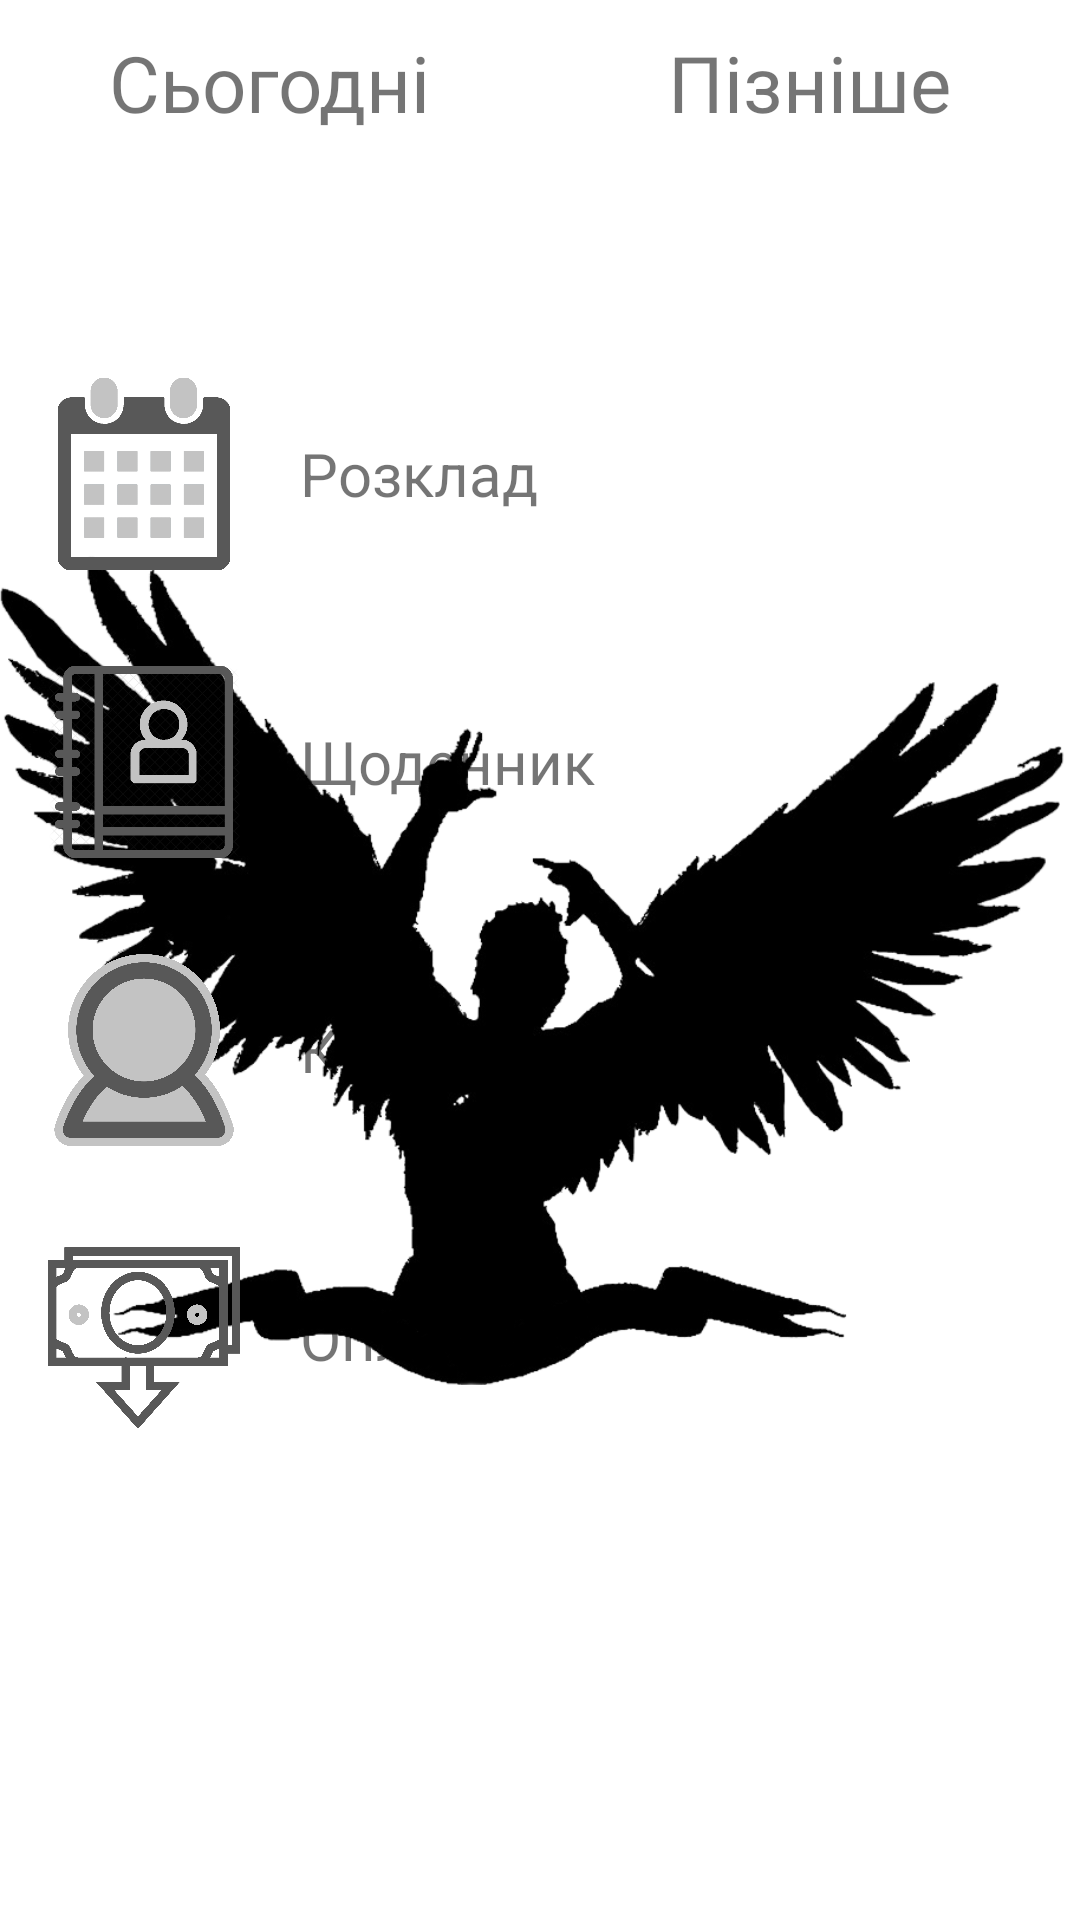

Icons on this 1080px×1920px Android screen, each with its box as (x1, y1, x2, y2):
client: (54, 954, 240, 1146)
diary: (48, 666, 240, 858)
